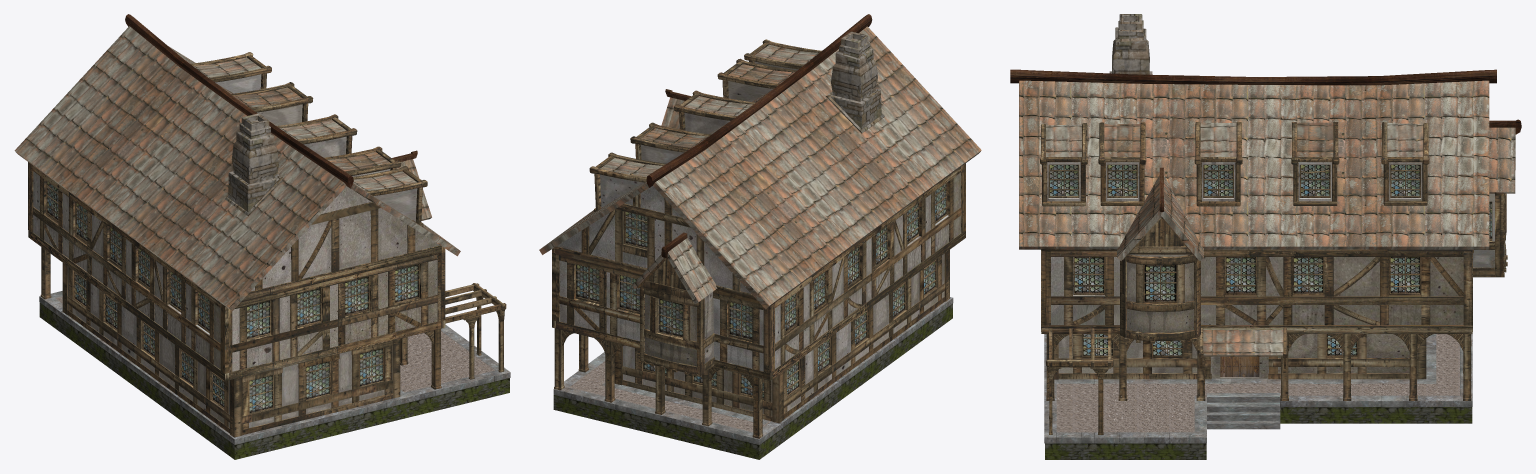
Rendered from taverna.glb.
3 views of the same model, side by side, from view 1: azimuth 30°, elevation 25°; view 2: azimuth 150°, elevation 25°; view 3: azimuth 270°, elevation 25° (orthographic). The views are drawn at different scales.
Parts seen in each view (by area): view 1: Cube.002, Cube.164, Cube, Cube.439, Cube.001, Cube.046, Cube.200, Cube.157, Cube.604, Cube.141, Cube.261, Cube.199_Material.021_0.001 (+14 smaller); view 2: Cube.002, Cube.164, Cube, Cube.439, Cube.001, Cube.046, Cube.157, Cube.604, Cube.200, Cube.484, Cube.141, Cube.426 (+19 smaller); view 3: Cube.002, Cube.001, Cube.164, Cube, Cube.157, Cube.439, Cube.046, Cube.199, Cube.200, Cube.368, Cube.484, Cube.005 (+31 smaller).
Part boxes in pixels (x1,y1,x2,y2): Cube.002: (14,14,460,311); Cube.164: (28,162,445,381); Cube: (33,171,439,371); Cube.439: (62,263,400,437); Cube.001: (39,296,509,459); Cube.046: (39,291,510,444); Cube.200: (68,267,392,427); Cube.157: (193,57,416,191); Cube.604: (228,113,279,211); Cube.141: (215,74,417,221); Cube.261: (46,181,419,340); Cube.199_Material.021_0.001: (190,52,421,182); Cube.002: (539,14,981,309); Cube.164: (552,163,965,380); Cube: (557,172,960,371); Cube.439: (614,250,949,423); Cube.001: (553,304,952,459); Cube.046: (553,297,953,444); Cube.157: (600,45,818,177); Cube.604: (831,31,881,129); Cube.200: (623,254,944,416); Cube.484: (554,328,762,438); Cube.141: (600,61,798,207); Cube.426: (581,118,934,291); Cube.002: (1010,69,1496,249); Cube.001: (1045,334,1472,459); Cube.164: (1041,249,1473,333); Cube: (1051,257,1463,324); Cube.157: (1046,122,1423,162); Cube.439: (1054,334,1426,379); Cube.046: (1044,334,1472,443); Cube.199: (1040,122,1427,206); Cube.200: (1058,334,1417,378); Cube.368: (1120,246,1200,340); Cube.484: (1046,334,1471,400); Cube.005: (1206,393,1280,429).
Bounding box in the file's own units: 2.91 × 2.82 × 4.01.
46 materials, 45 textured.
